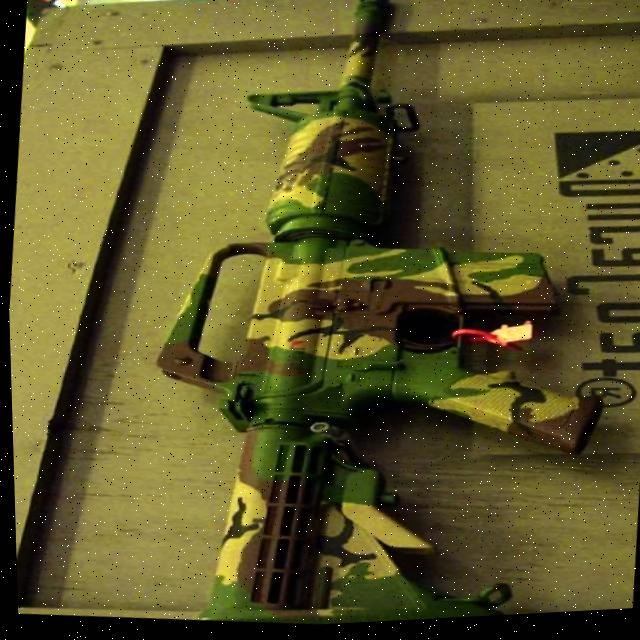firearm: (120, 0, 633, 635)
